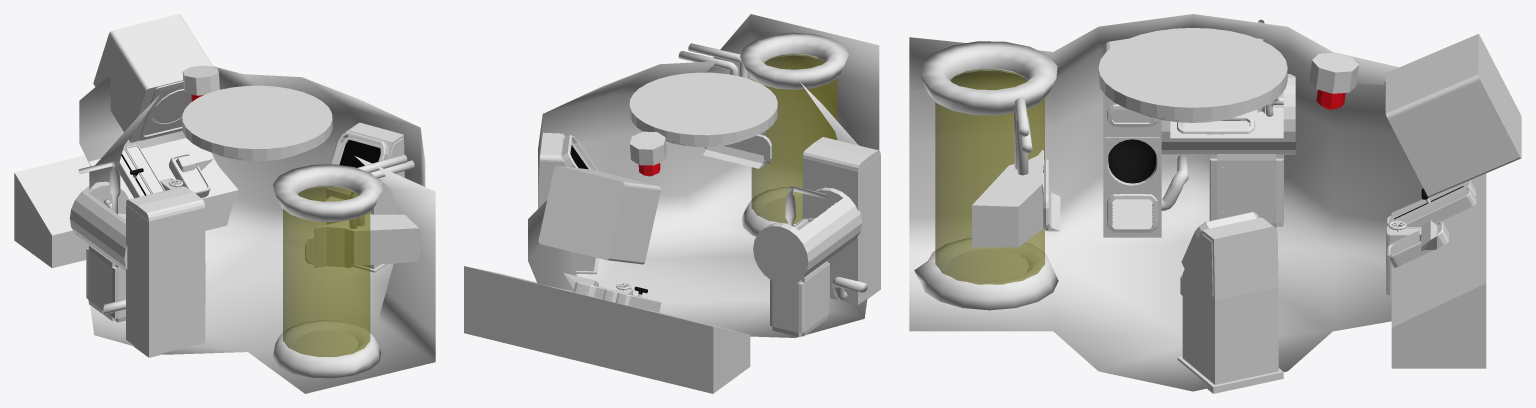
Rendered from submarine.glb.
3 renders of one model, left to right at view 1: azimuth 30°, elevation 25°; view 2: azimuth 150°, elevation 25°; view 3: azimuth 270°, elevation 25°, orthographic. The views are drawn at different scales.
Visible parts, largest first — view 1: Hull, Reactor, CoolingAndLifeSupport, Sonar, PCUnit, SliderBase, Light; view 2: Hull, CoolingAndLifeSupport, Reactor, Sonar, PCUnit, SliderBase, Light; view 3: Hull, Reactor, CoolingAndLifeSupport, PCUnit, Sonar, SliderBase, Light.
Part boxes in pixels (box(x1,y1,x2,y2)): Hull: box(14, 66, 435, 393); Reactor: box(271, 154, 420, 378); CoolingAndLifeSupport: box(69, 161, 205, 357); Sonar: box(93, 14, 213, 142); PCUnit: box(325, 122, 404, 272); SliderBase: box(118, 145, 213, 198); Light: box(182, 65, 219, 101); Hull: box(464, 14, 879, 393); CoolingAndLifeSupport: box(753, 137, 880, 336); Reactor: box(678, 32, 848, 236); Sonar: box(538, 165, 660, 264); PCUnit: box(538, 132, 598, 274); SliderBase: box(564, 273, 661, 312); Light: box(630, 131, 666, 176); Hull: box(909, 14, 1486, 391); Reactor: box(914, 41, 1060, 310); CoolingAndLifeSupport: box(1103, 19, 1295, 237); PCUnit: box(1177, 212, 1283, 393); Sonar: box(1384, 34, 1521, 197); SliderBase: box(1386, 180, 1476, 295); Light: box(1309, 52, 1358, 109).
Bounding box in the file's own units: 5.01 × 2.84 × 6.47.
